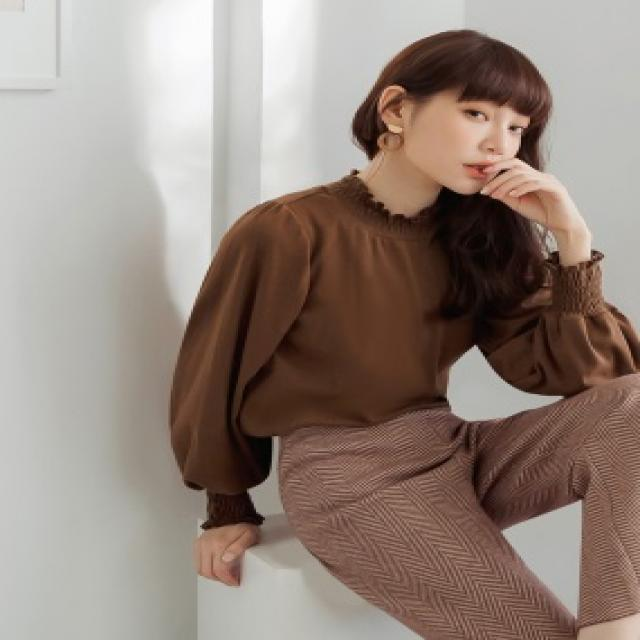plain: (172, 174, 609, 422)
